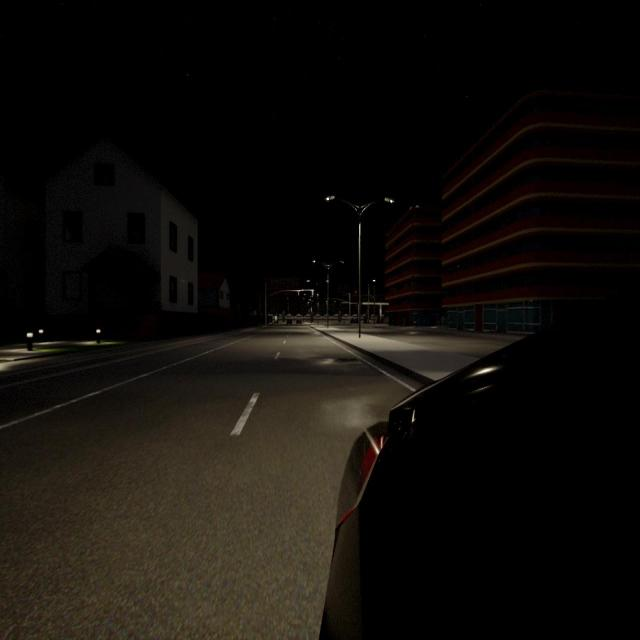Vehicle: (321, 305, 640, 640), (352, 314, 358, 321), (296, 319, 302, 325), (371, 314, 376, 320), (287, 318, 292, 324)
traffic_light: (334, 299, 336, 303), (298, 292, 299, 296), (312, 291, 313, 295), (326, 300, 327, 302)
